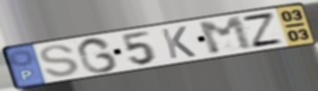5: (118, 29, 160, 67)
G: (75, 36, 120, 74)
K: (158, 25, 199, 60)
M: (196, 15, 257, 57)
S: (38, 43, 81, 78)
Z: (239, 11, 287, 49)
